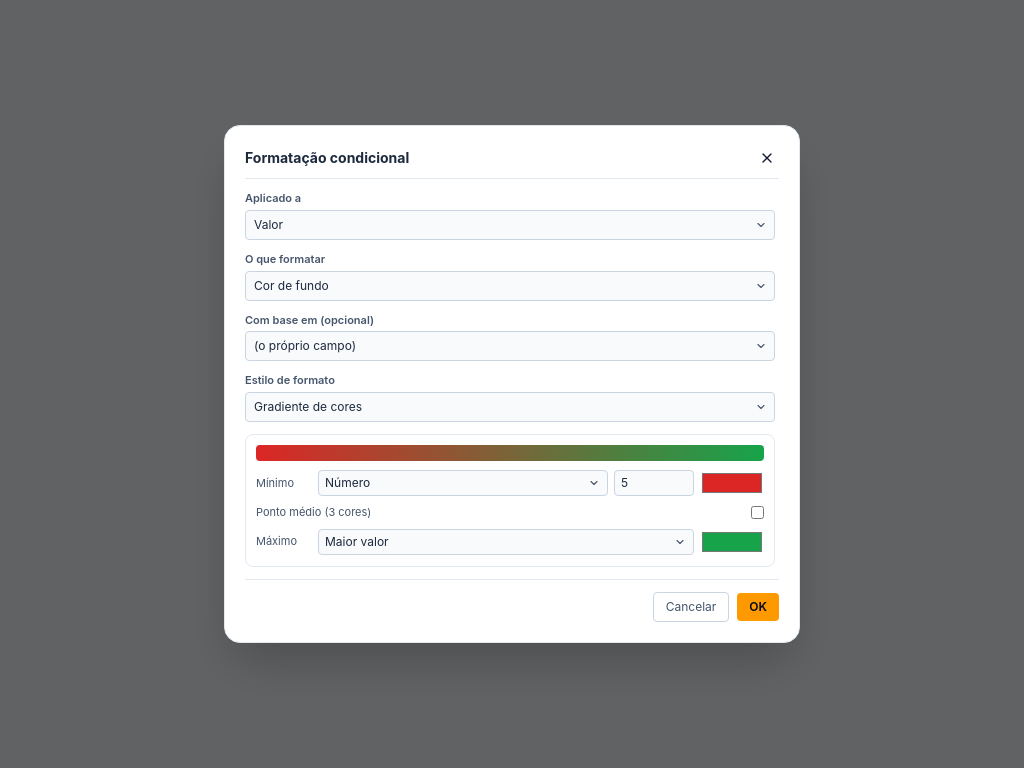
ConditionalFormatDialog › digita em todos os campos do modo "gradient" (2 e 3 cores) e salva
The image size is (1024, 768).
Earlier steps of the test are not shown.
Later steps or results of the test are not shown.
Type "#ff0000" into the colour field named "Mínimo - cor". click: (732,483)
box: [700,469,764,497]
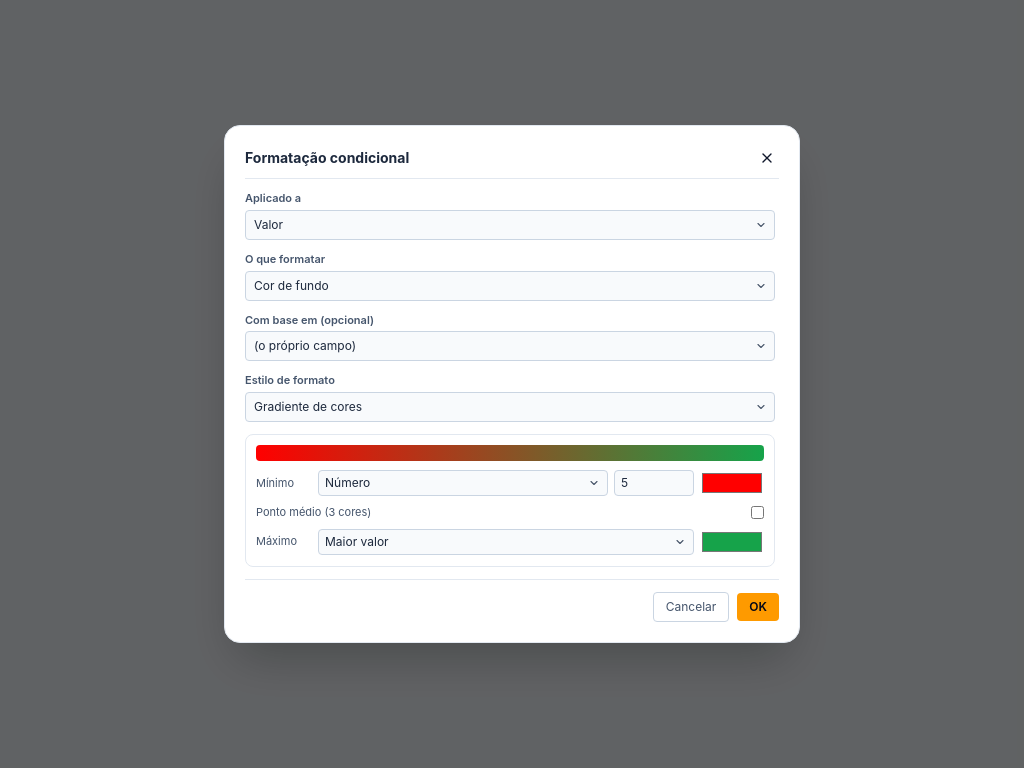
Click the checkbox named "Ativar ponto médio". click: (758,512)
box: [751,506,764,519]
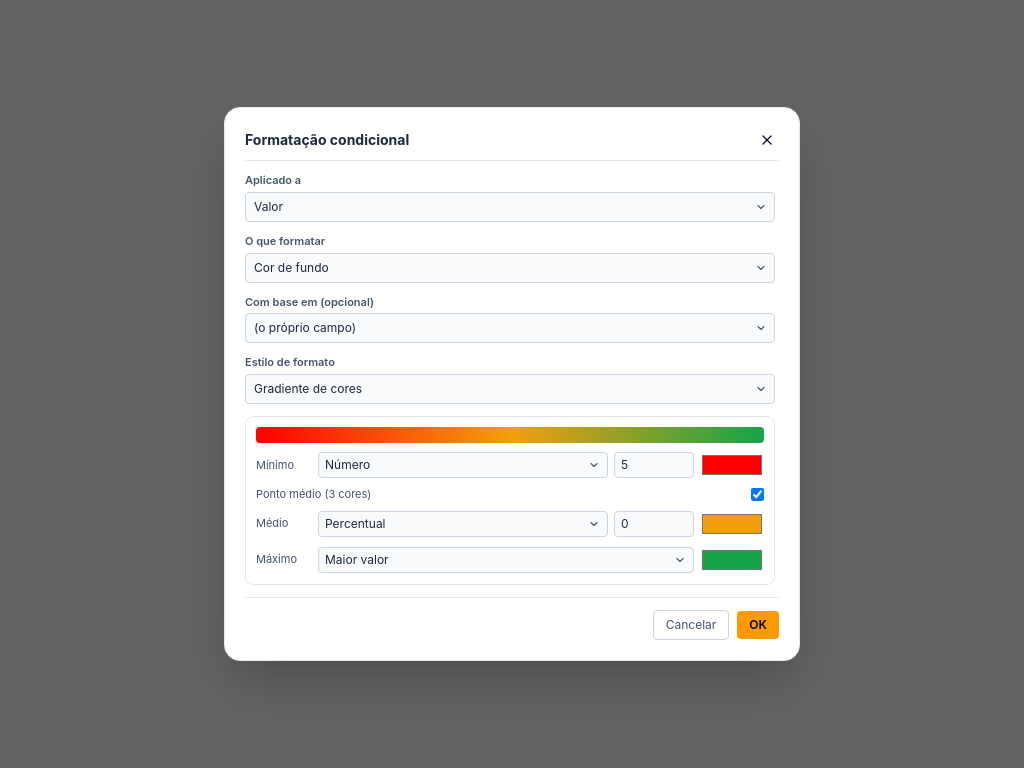
Select "Percentual" in the dropdown named "Médio - tipo". click: (463,524)
box: [318,511,608,537]
Replace the text in the number field named "Médio - valor" with "50". click: (654,524)
box: [614,511,694,537]
Type "#ffff00" into the colour field named "Médio - cor". click: (732,524)
box: [700,510,764,538]
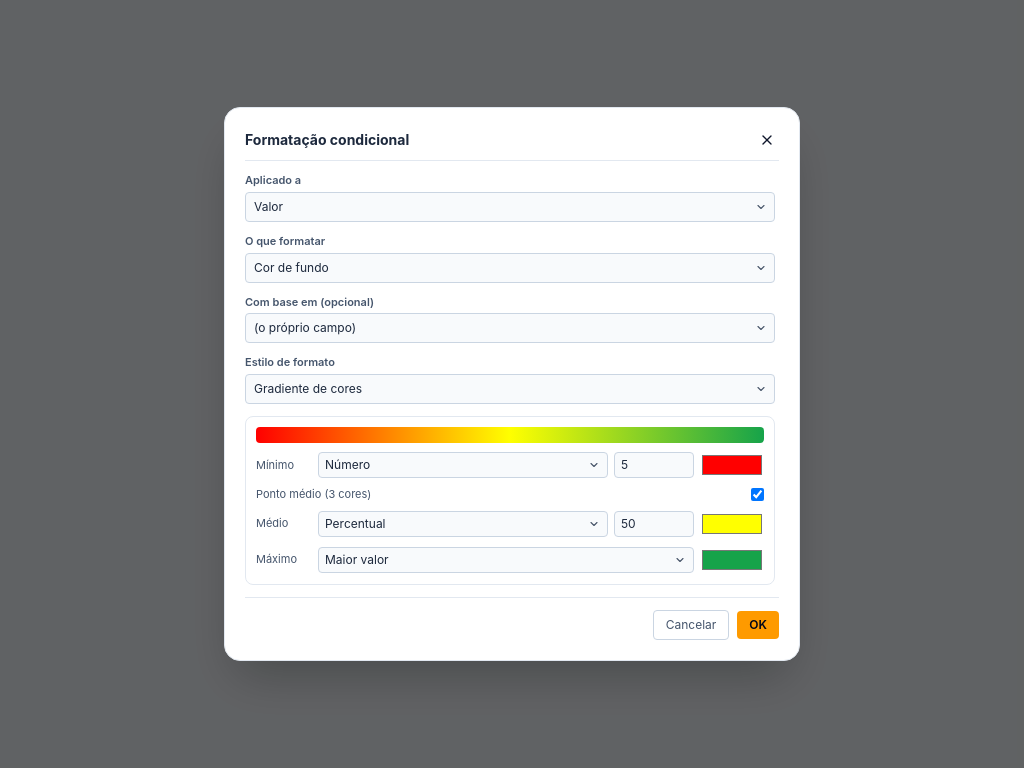
Select "Número" in the dropdown named "Máximo - tipo". click: (506,560)
box: [318,547,694,573]
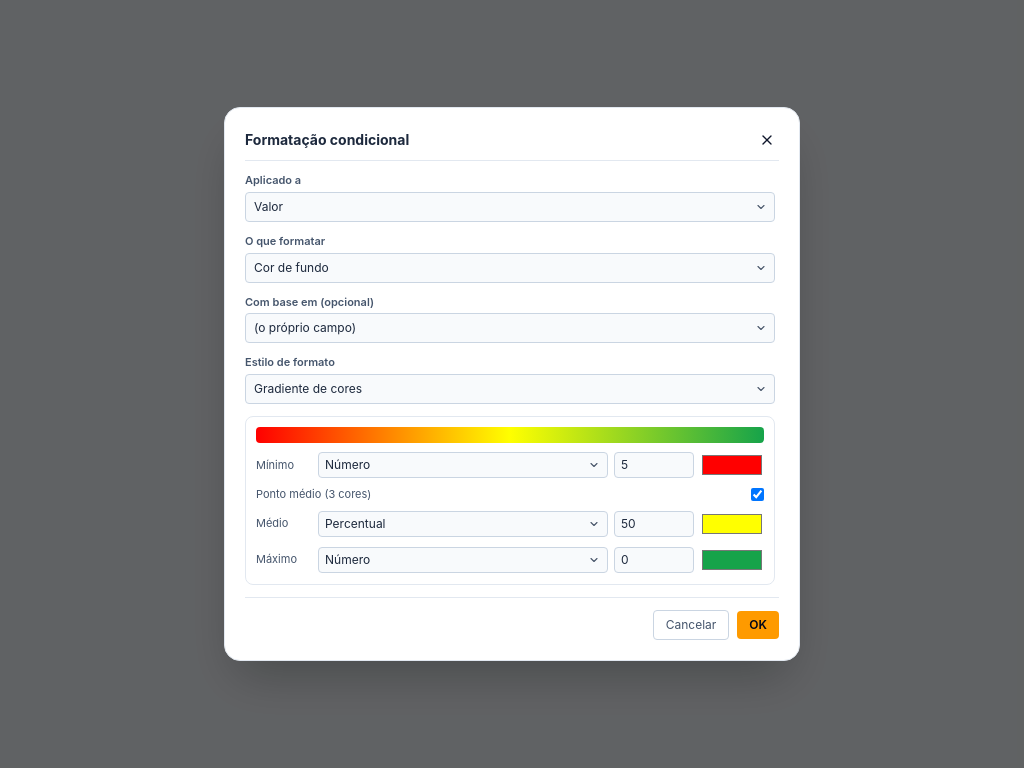
Replace the text in the number field named "Máximo - valor" with "100". click: (654,560)
box: [614,547,694,573]
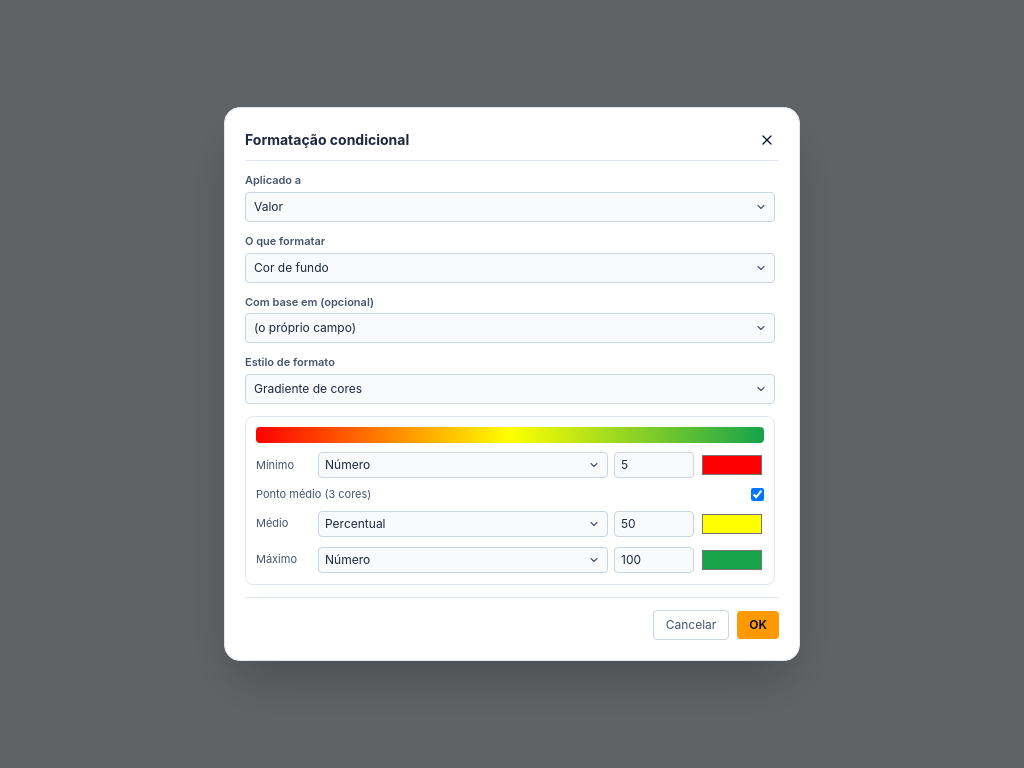
Type "#00ff00" into the colour field named "Máximo - cor". click: (732,560)
box: [700,546,764,574]
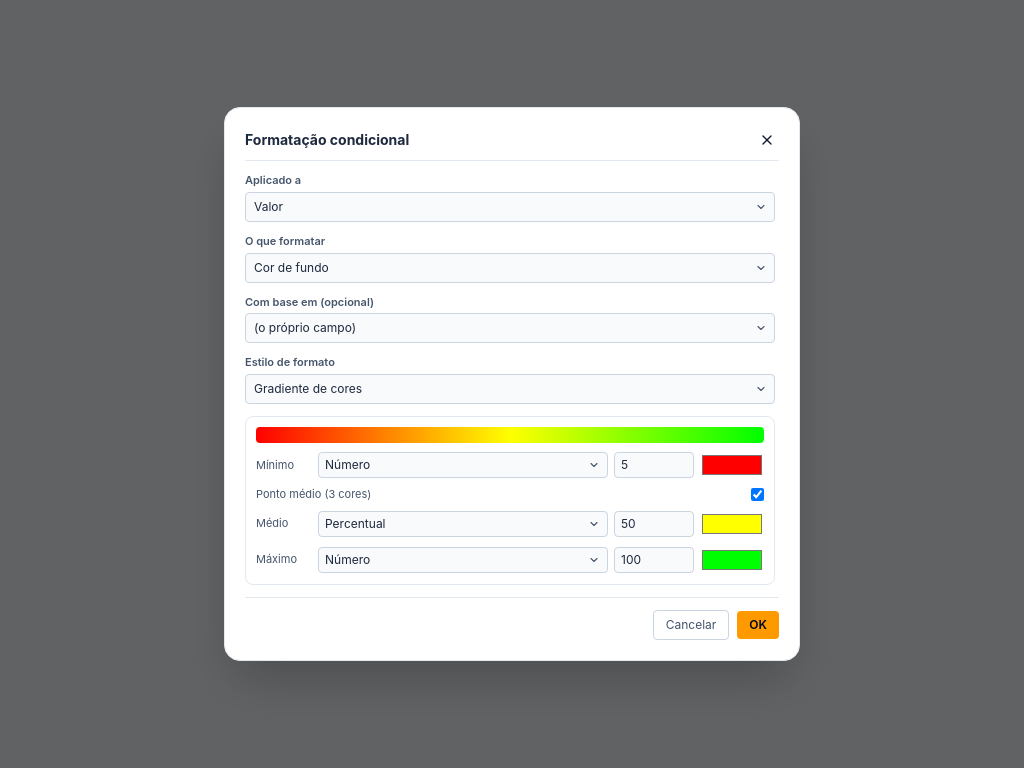
Expected: the element with test id "gradient-preview" is shown, [256,427,764,443]
